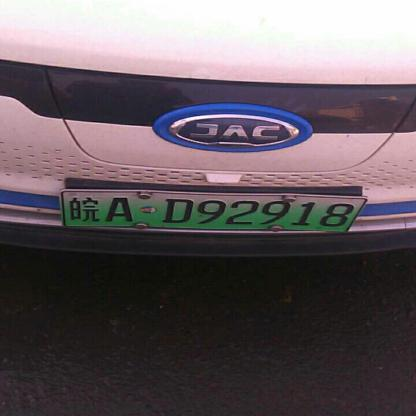lp: (62, 190, 365, 231)
